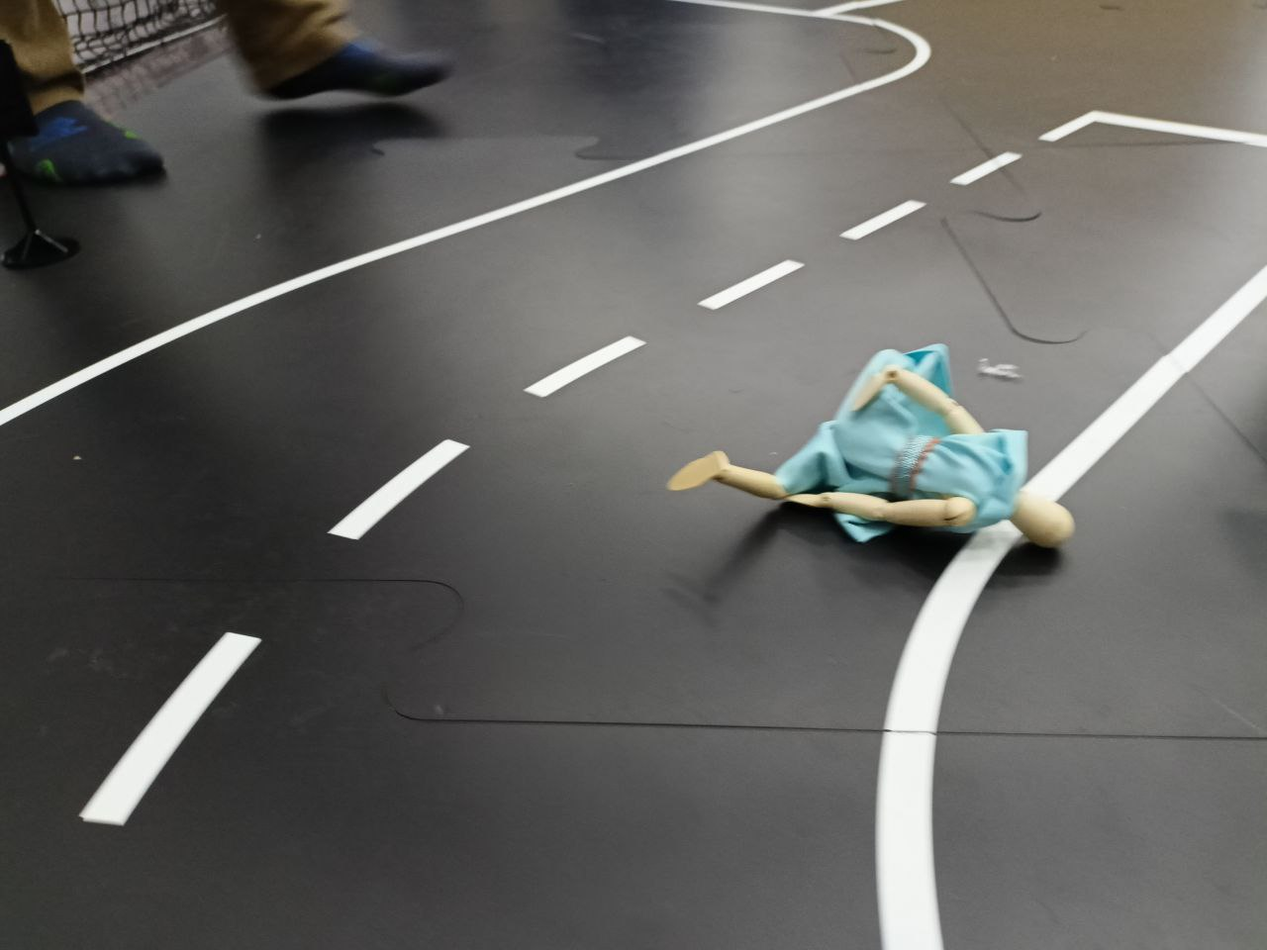Road works: (666, 336, 1080, 564)
